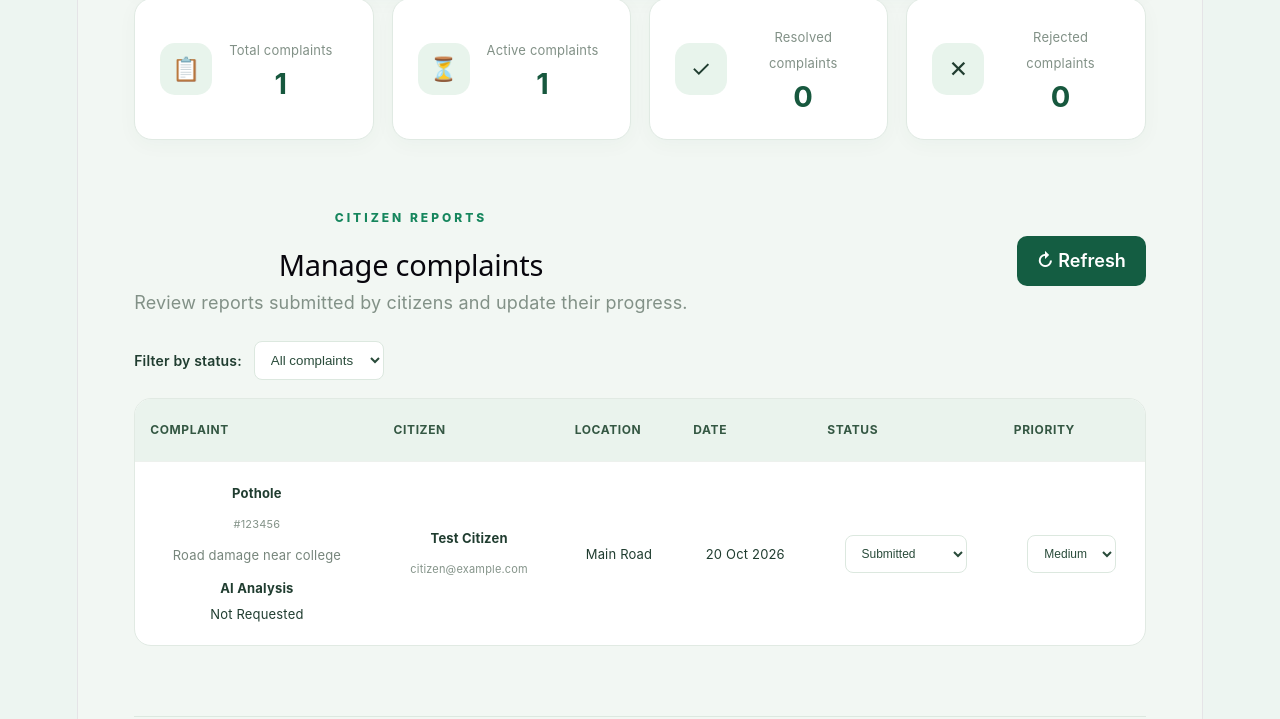
Test: TrafficCare Admin Dashboard › filters complaints by status
The image size is (1280, 719).
(page scrolled)
Expected: the text "Road damage near college" is shown, [173,546,341,562]
Step 1. Select "Resolved" in the dropdown labelled "Filter by status:" → (319, 361), box [254,341,384,380]
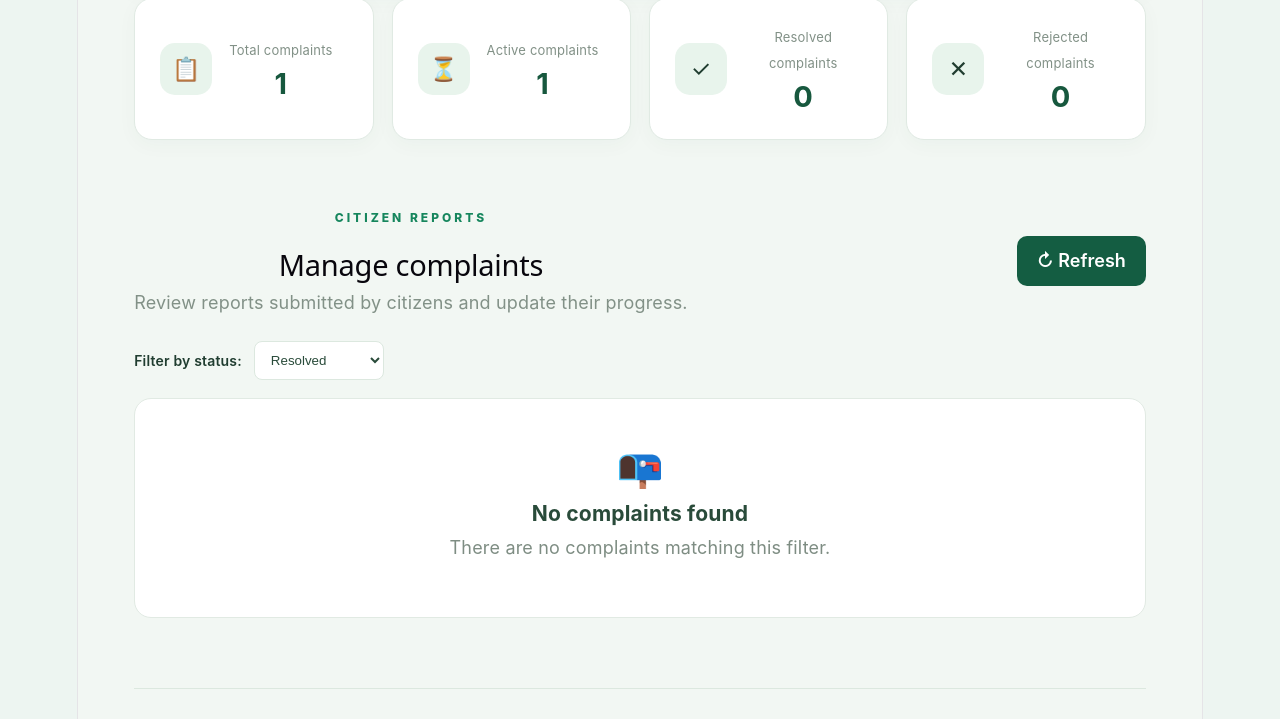
Now the heading "No complaints found" is shown, box [532,501,748,526]
